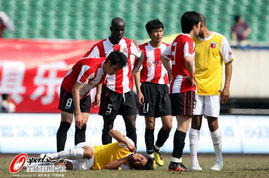fall: (26, 129, 159, 174)
